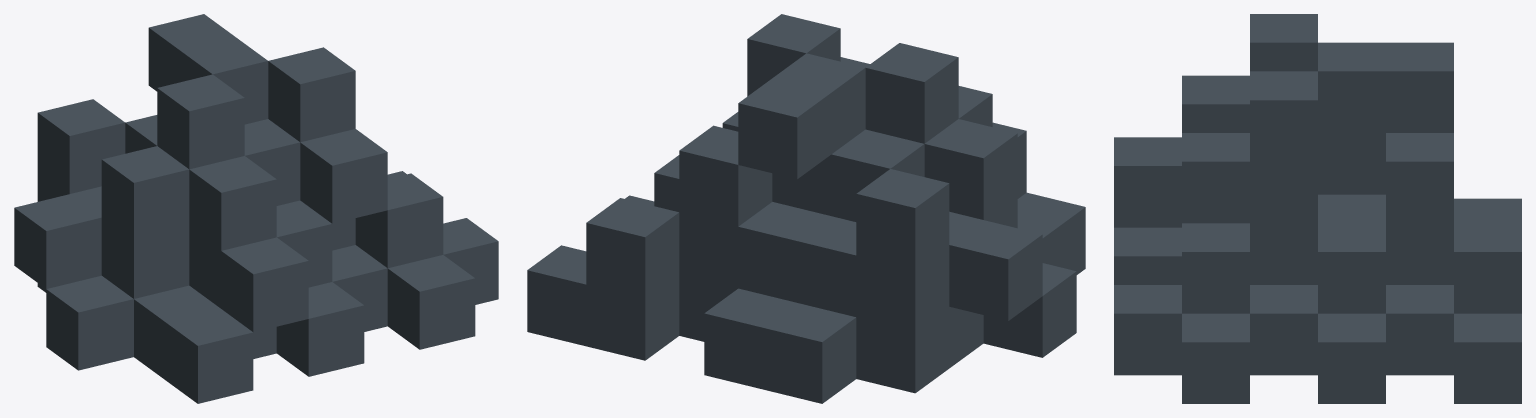
Rendered from lead_dust.dae.
3 views of the same model, side by side, from view 1: azimuth 30°, elevation 25°; view 2: azimuth 150°, elevation 25°; view 3: azimuth 270°, elevation 25° (orthographic). The views are drawn at different scales.
Visible parts, largest first — view 1: lead_dust; view 2: lead_dust; view 3: lead_dust.
Boxes of the visible parts, <box> form: lead_dust: <box>14,14,498,403</box>; lead_dust: <box>527,14,1085,403</box>; lead_dust: <box>1114,14,1521,403</box>.
Size of the model in its own units: 0.7 by 0.4 by 0.6.
1 material, 1 textured.
